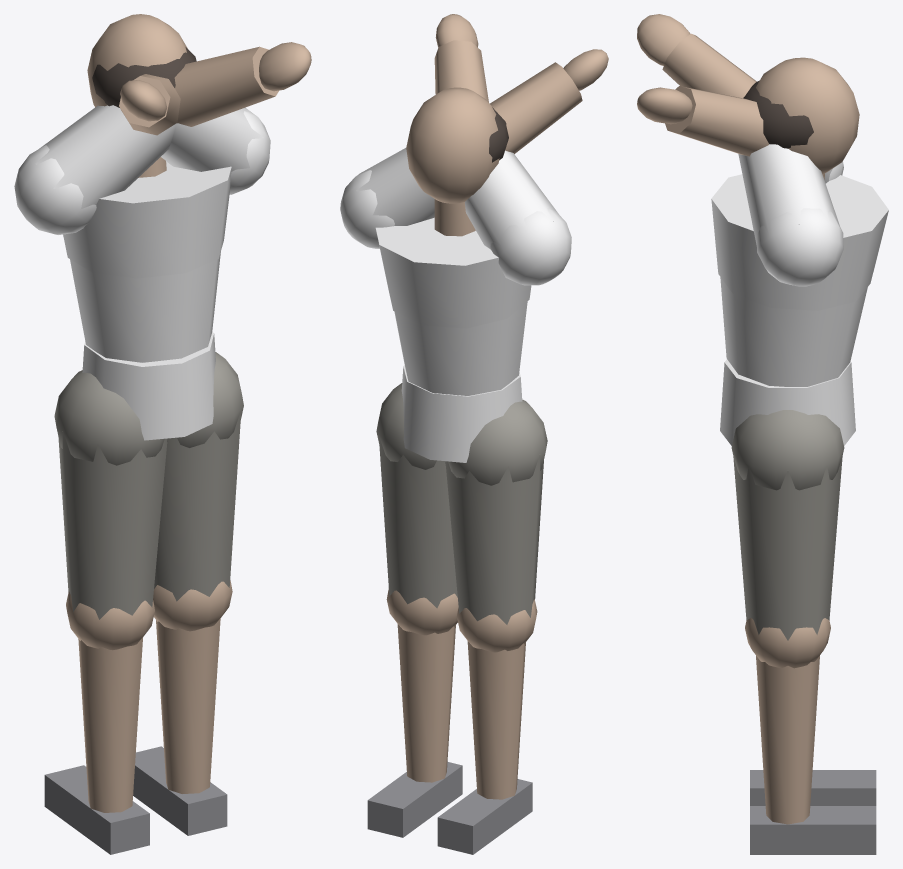
The model's file is crowd_b_stand.glb.
The picture shows the model from 3 angles, left to right: view 1: azimuth 30°, elevation 25°; view 2: azimuth 150°, elevation 25°; view 3: azimuth 270°, elevation 25°; orthographic projection. The views are drawn at different scales.
Visible parts, largest first — view 1: crowd_b_body; view 2: crowd_b_body; view 3: crowd_b_body.
Part boxes in pixels (x1,y1,x2,y2): crowd_b_body: (14, 14, 311, 854); crowd_b_body: (340, 14, 608, 854); crowd_b_body: (637, 14, 888, 854).
Bounding box in the file's own units: 0.5243 × 1.66 × 0.4887.
